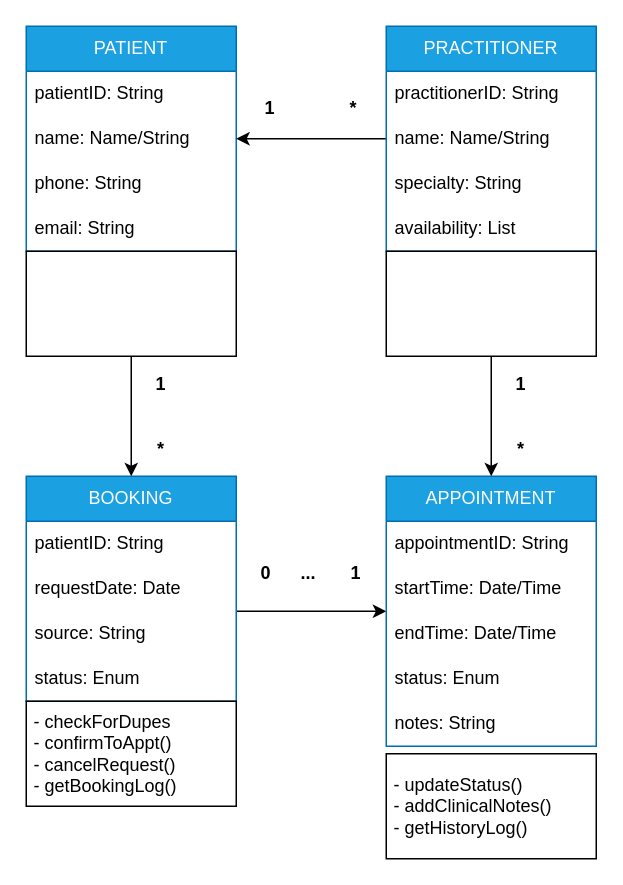
The diagram is 623 pixels wide and 885 high, and some of its shapes have lost their labels. The box of each missing label's shape, as (x1, y1, x2, y2) in pixels:
- checkAvailability() - addAvailability() - removeAvailability(): (385, 250, 596, 356)
- getHistory() - updateContact() - getUniqueID(): (25, 250, 236, 356)
